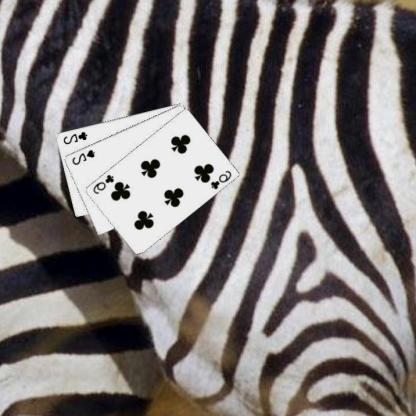2C: (62, 129, 90, 145)
2S: (71, 147, 97, 166)
6C: (92, 172, 117, 195), (210, 168, 234, 190)
